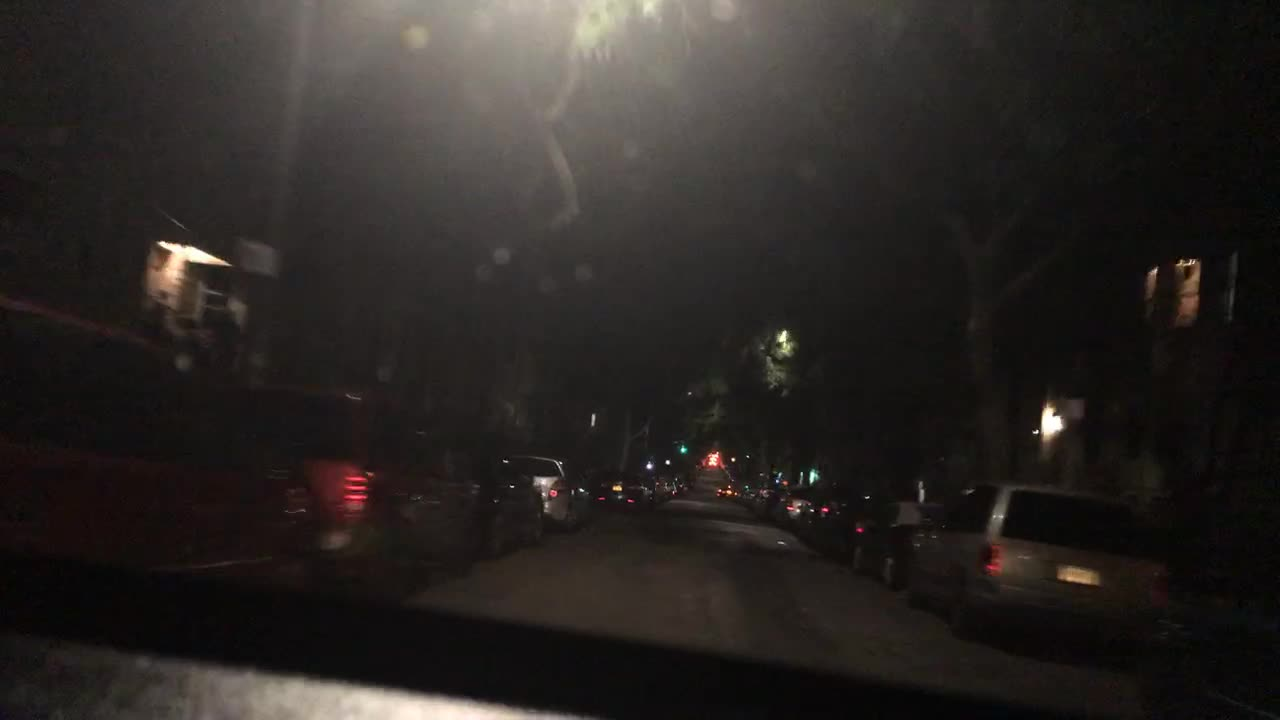car: (0, 290, 324, 596), (232, 380, 489, 595), (892, 479, 1176, 646), (1135, 548, 1277, 717), (461, 431, 547, 561), (848, 498, 947, 591), (510, 451, 586, 534), (791, 483, 869, 557), (590, 471, 657, 516), (776, 483, 816, 529), (565, 474, 597, 526), (752, 483, 783, 521), (647, 471, 668, 505), (739, 485, 764, 511), (729, 481, 751, 506), (662, 471, 681, 499), (673, 473, 692, 495), (716, 481, 737, 500)
traffic light: (681, 440, 687, 451)
